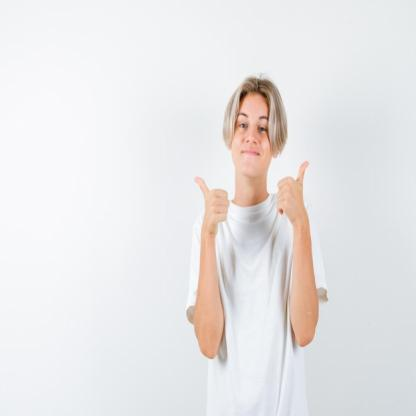thumb_up: (274, 156, 312, 221), (192, 170, 230, 232)
